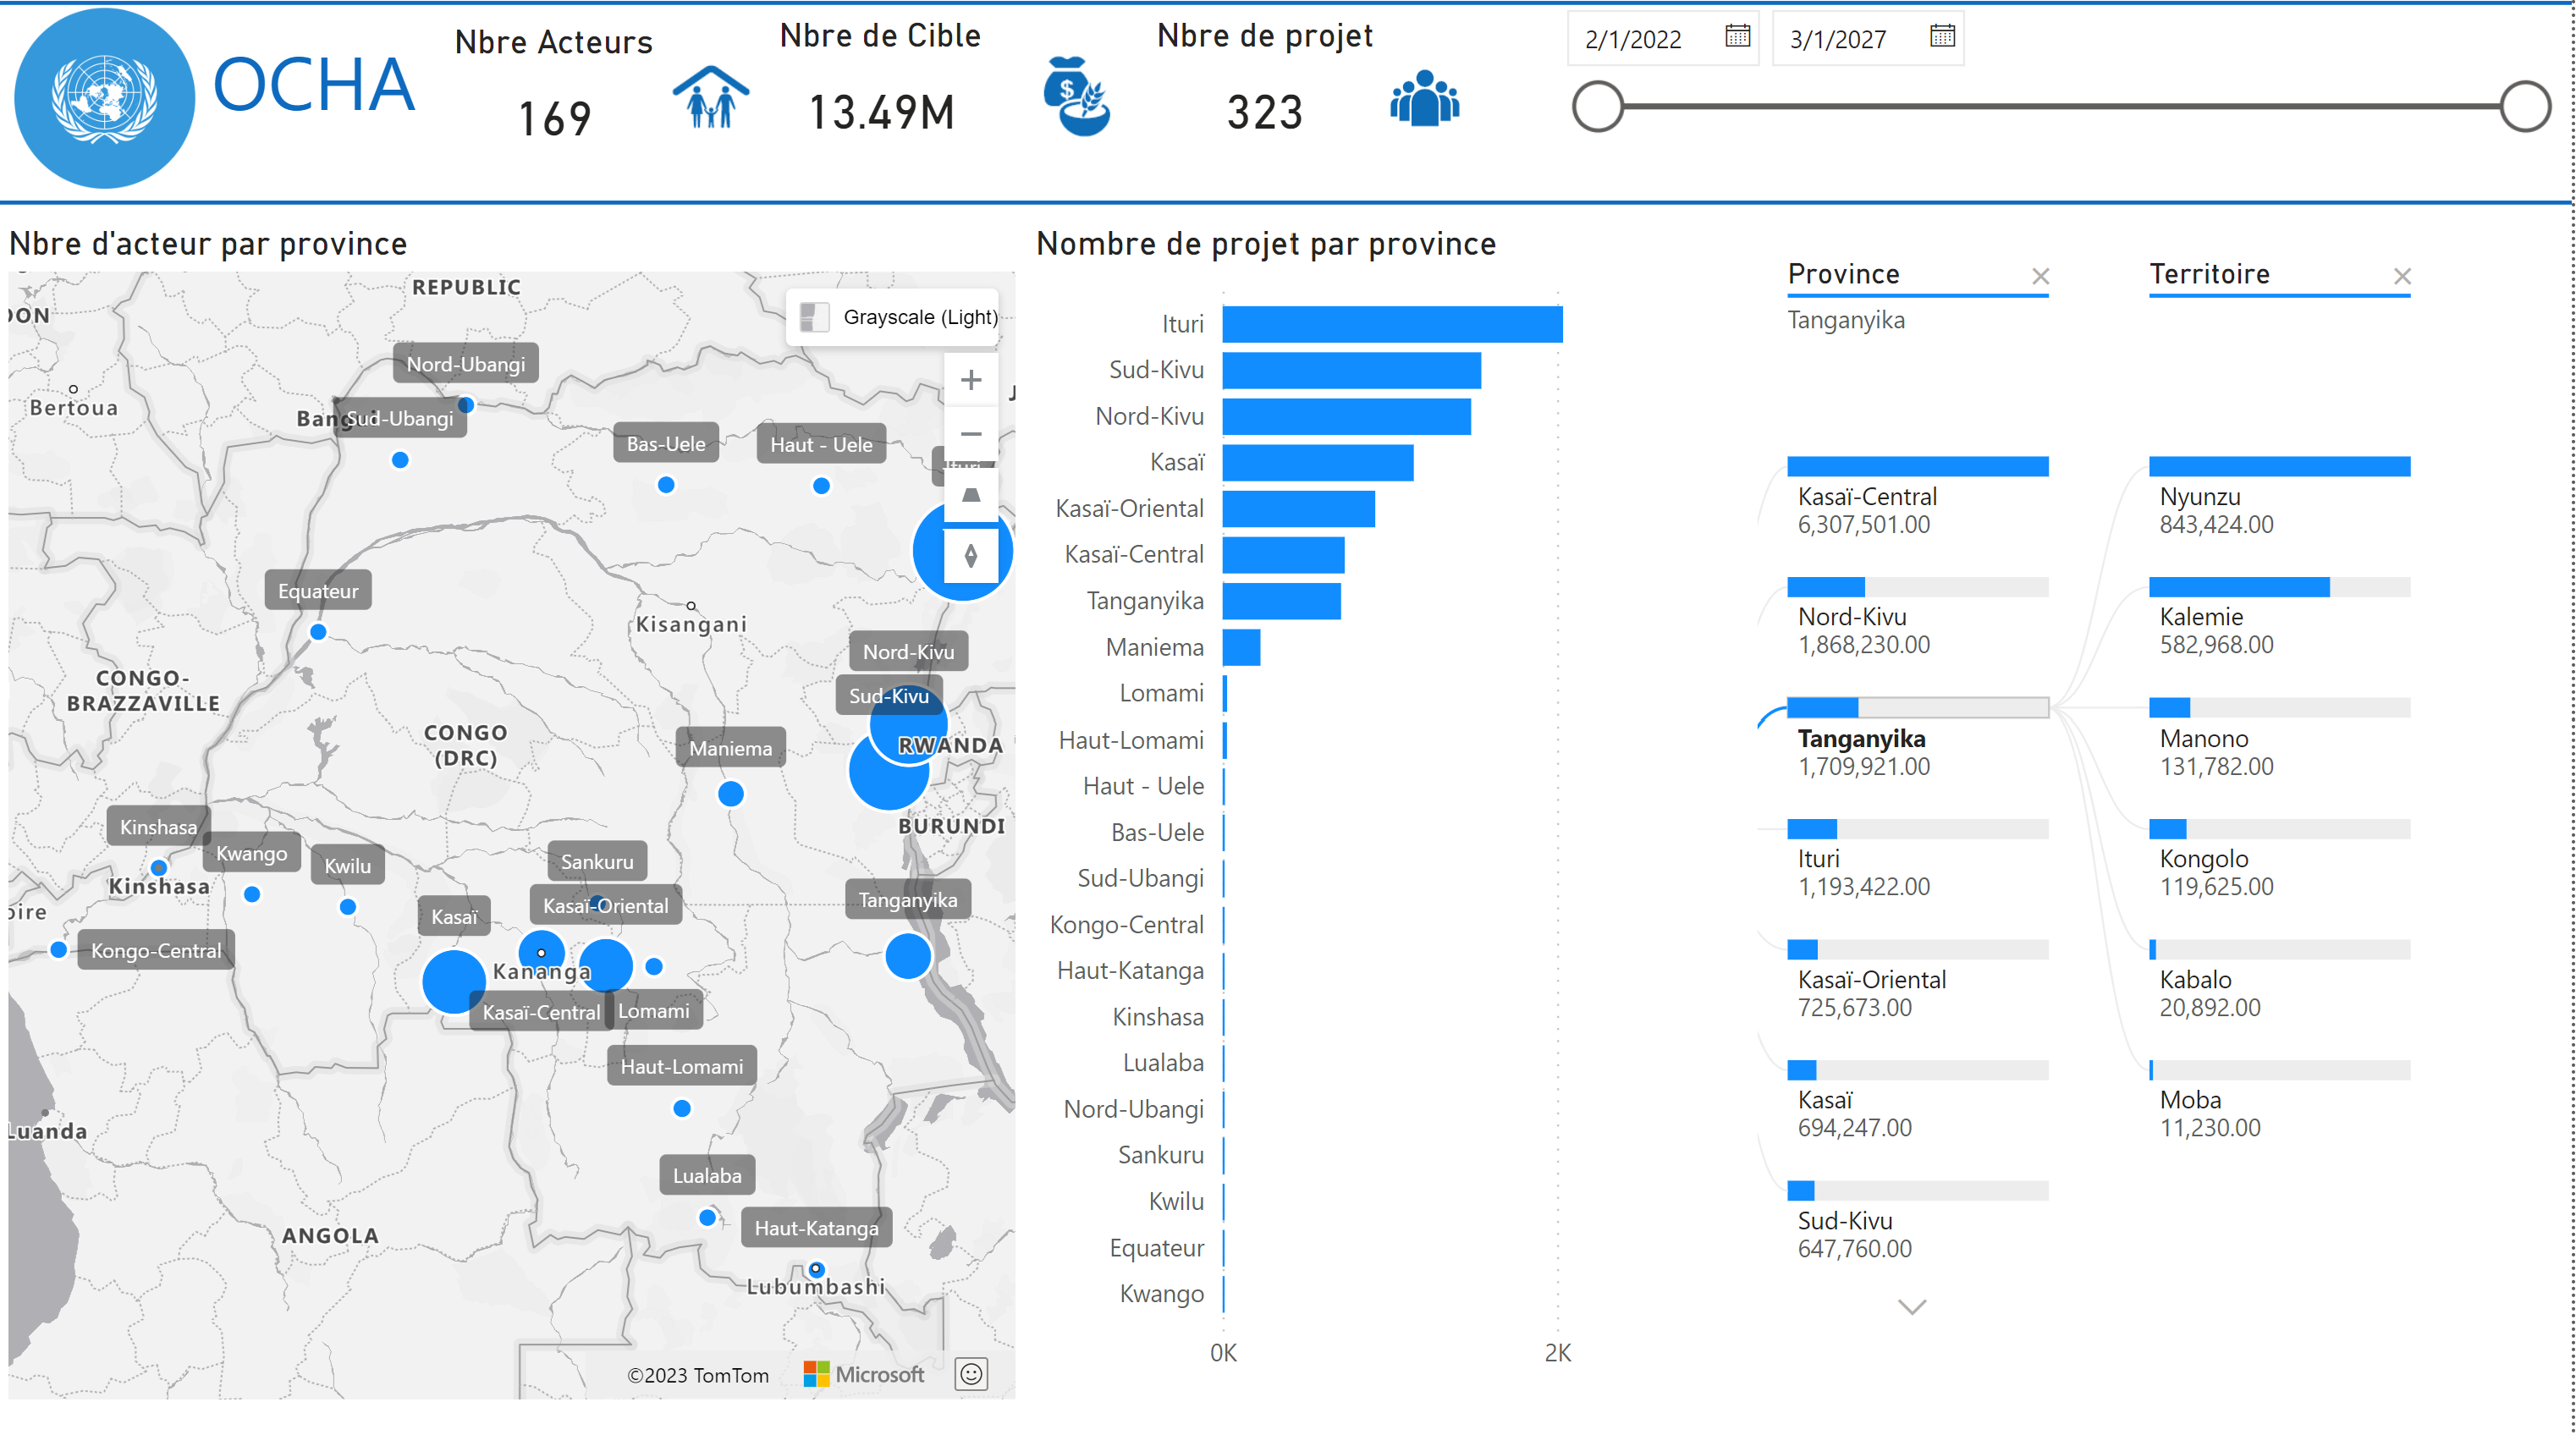

The dashboard page shown, as its layout file describes it:
{"tool":"powerbi","page":{"name":"Dashebord","canvas":[1280,720],"ordinal":0},"visuals":[{"type":"card","title":"Nbre Acteurs","fields":{"Values":["Count(rdc-3w-mars-2022.ID acteur)"]},"box":[216,16,120,75],"z":0},{"type":"card","title":"Nbre de Cible","fields":{"Values":["Sum(rdc-3w-mars-2022.CIBLE)"]},"box":[341,13,196,75],"z":1000},{"type":"azureMap","title":"Nbre d''acteur par province","fields":{"Category":["rdc-3w-mars-2022.Province"],"Size":["CountNonNull(rdc-3w-mars-2022.Nom acteur)"]},"box":[0,116,511,590],"z":2000},{"type":"slicer","fields":{"Values":["rdc-3w-mars-2022.date-fin-final"]},"box":[767,0,511,108],"z":3000},{"type":"clusteredBarChart","title":"Nombre de projet par province","fields":{"Category":["rdc-3w-mars-2022.Province"],"Y":["CountNonNull(rdc-3w-mars-2022.Nom du projet*)"]},"box":[511,116,359,580],"z":4000},{"type":"decompositionTreeVisual","fields":{"Analyze":["Sum(rdc-3w-mars-2022.CIBLE)"],"ExplainBy":["rdc-3w-mars-2022.Province","rdc-3w-mars-2022.Territoire"]},"box":[870,116,410,580],"z":5000},{"type":"card","title":"Nbre de projet","fields":{"Values":["Count(rdc-3w-mars-2022.Nom du projet*)"]},"box":[537,13,186,75],"z":6000},{"type":"image","box":[324,18,61,71],"z":7000},{"type":"image","box":[505,21,63,64],"z":8000},{"type":"image","box":[0,0,106,108],"z":9000},{"type":"textbox","box":[101,14,120,63],"z":10000},{"type":"image","box":[683,28,53,52],"z":11000},{"type":"shape","box":[0,99,1280,13],"z":12000},{"type":"shape","box":[0,0,1280,13],"z":13000}]}

Visuals, with their boxes in screenshot pixels (x1, y1, x2, y2), scaled from the page's 1280x720 canvas onto the 2576x1435 screenshot:
"Nbre Acteurs" card: box(435, 32, 676, 181)
"Nbre de Cible" card: box(686, 26, 1081, 175)
"Nbre d''acteur par province" azureMap: box(0, 231, 1028, 1407)
slicer - rdc-3w-mars-2022.date-fin-final: box(1544, 0, 2572, 215)
"Nombre de projet par province" clusteredBarChart: box(1028, 231, 1751, 1387)
decompositionTreeVisual - Sum(rdc-3w-mars-2022.CIBLE) x rdc-3w-mars-2022.Province: box(1751, 231, 2575, 1387)
"Nbre de projet" card: box(1081, 26, 1455, 175)
image: box(652, 36, 775, 178)
image: box(1016, 41, 1143, 169)
image: box(0, 0, 213, 215)
textbox: box(203, 28, 445, 153)
image: box(1374, 56, 1481, 159)
shape: box(0, 197, 2575, 223)
shape: box(0, 0, 2575, 26)
